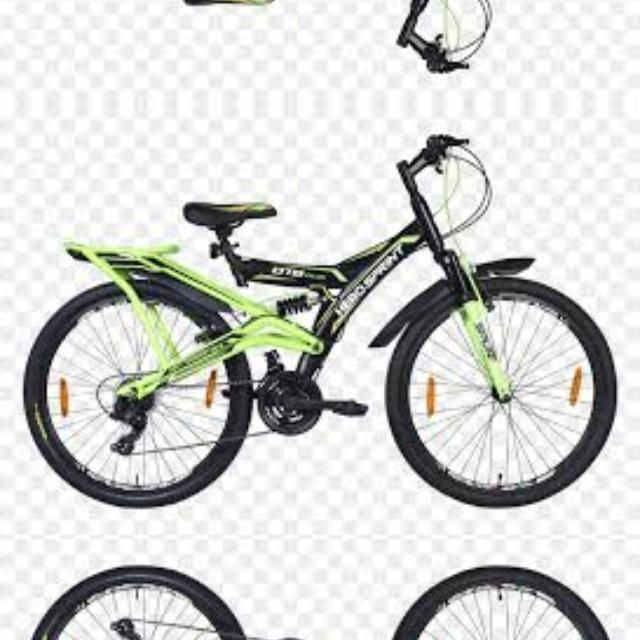obstacle: (14, 120, 634, 522), (14, 551, 633, 640), (14, 0, 633, 86)
